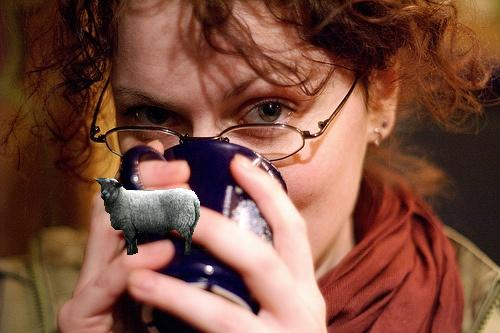tampered: (95, 178, 200, 255)
